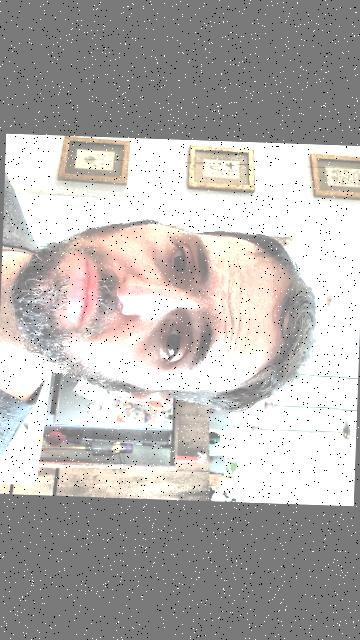sad: (0, 203, 324, 421)
